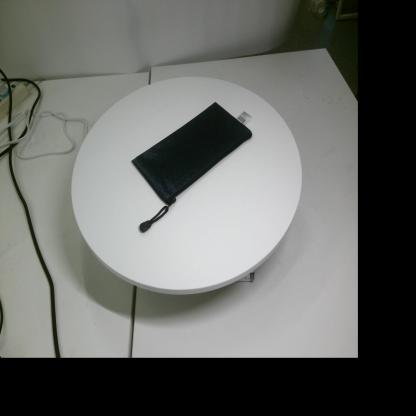Stationery: (132, 102, 252, 233)
